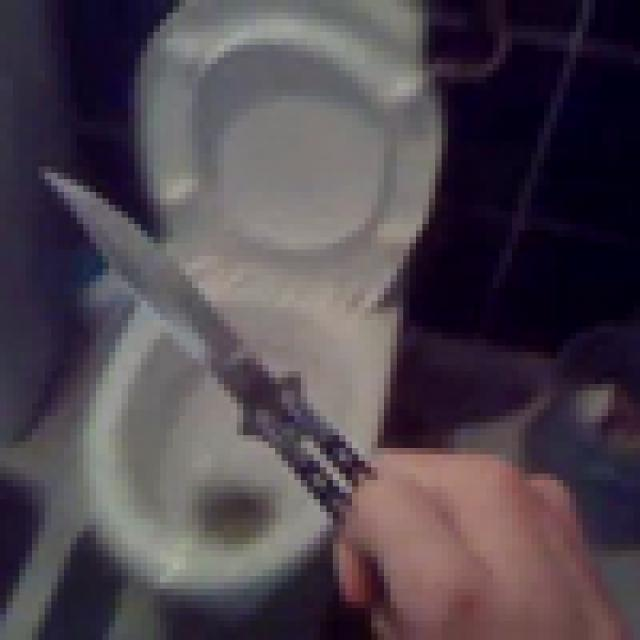Knife: (19, 128, 435, 589)
